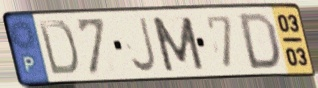7: (75, 15, 108, 77), (204, 14, 234, 70)
D: (238, 10, 282, 71), (36, 19, 81, 78)
J: (129, 15, 160, 75)
M: (148, 15, 207, 74)
